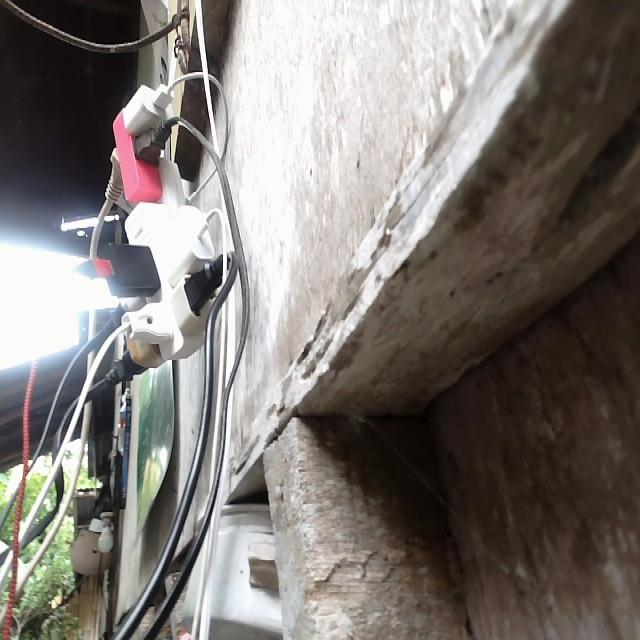-: (95, 72, 225, 371)
